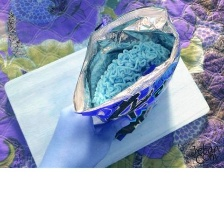snack: (62, 1, 187, 146)
